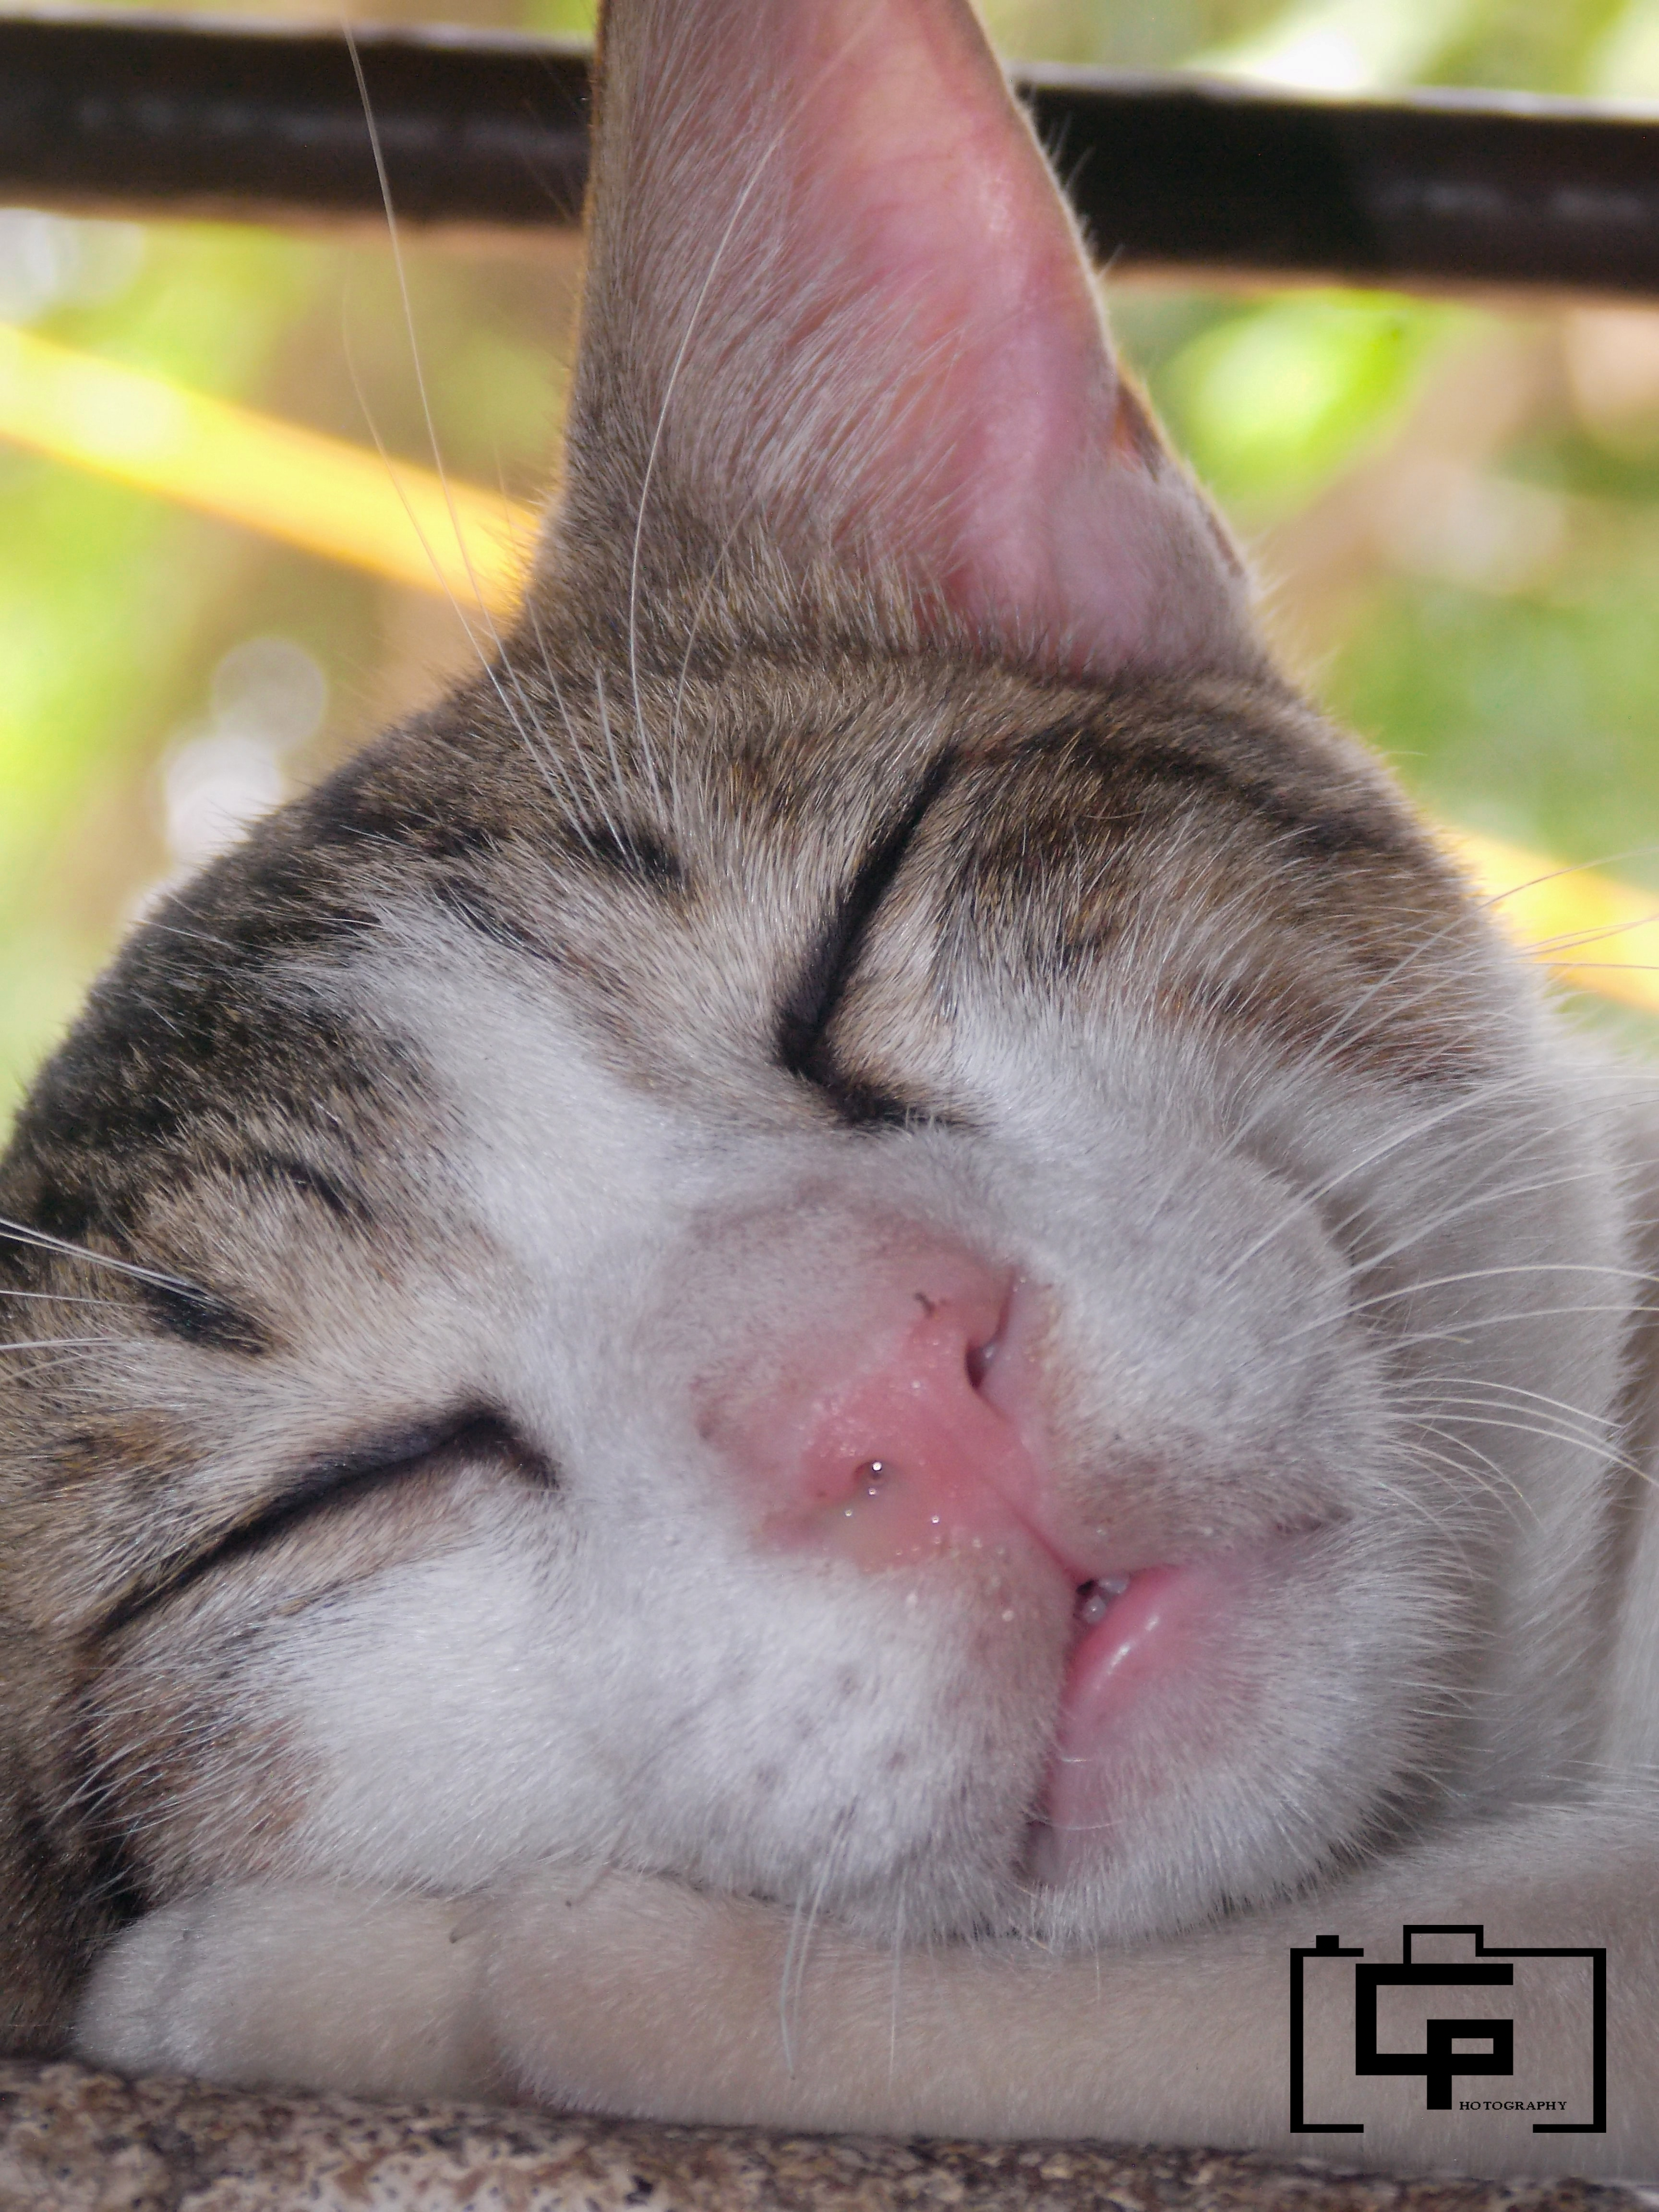cat-face: (10, 0, 1635, 2069)
